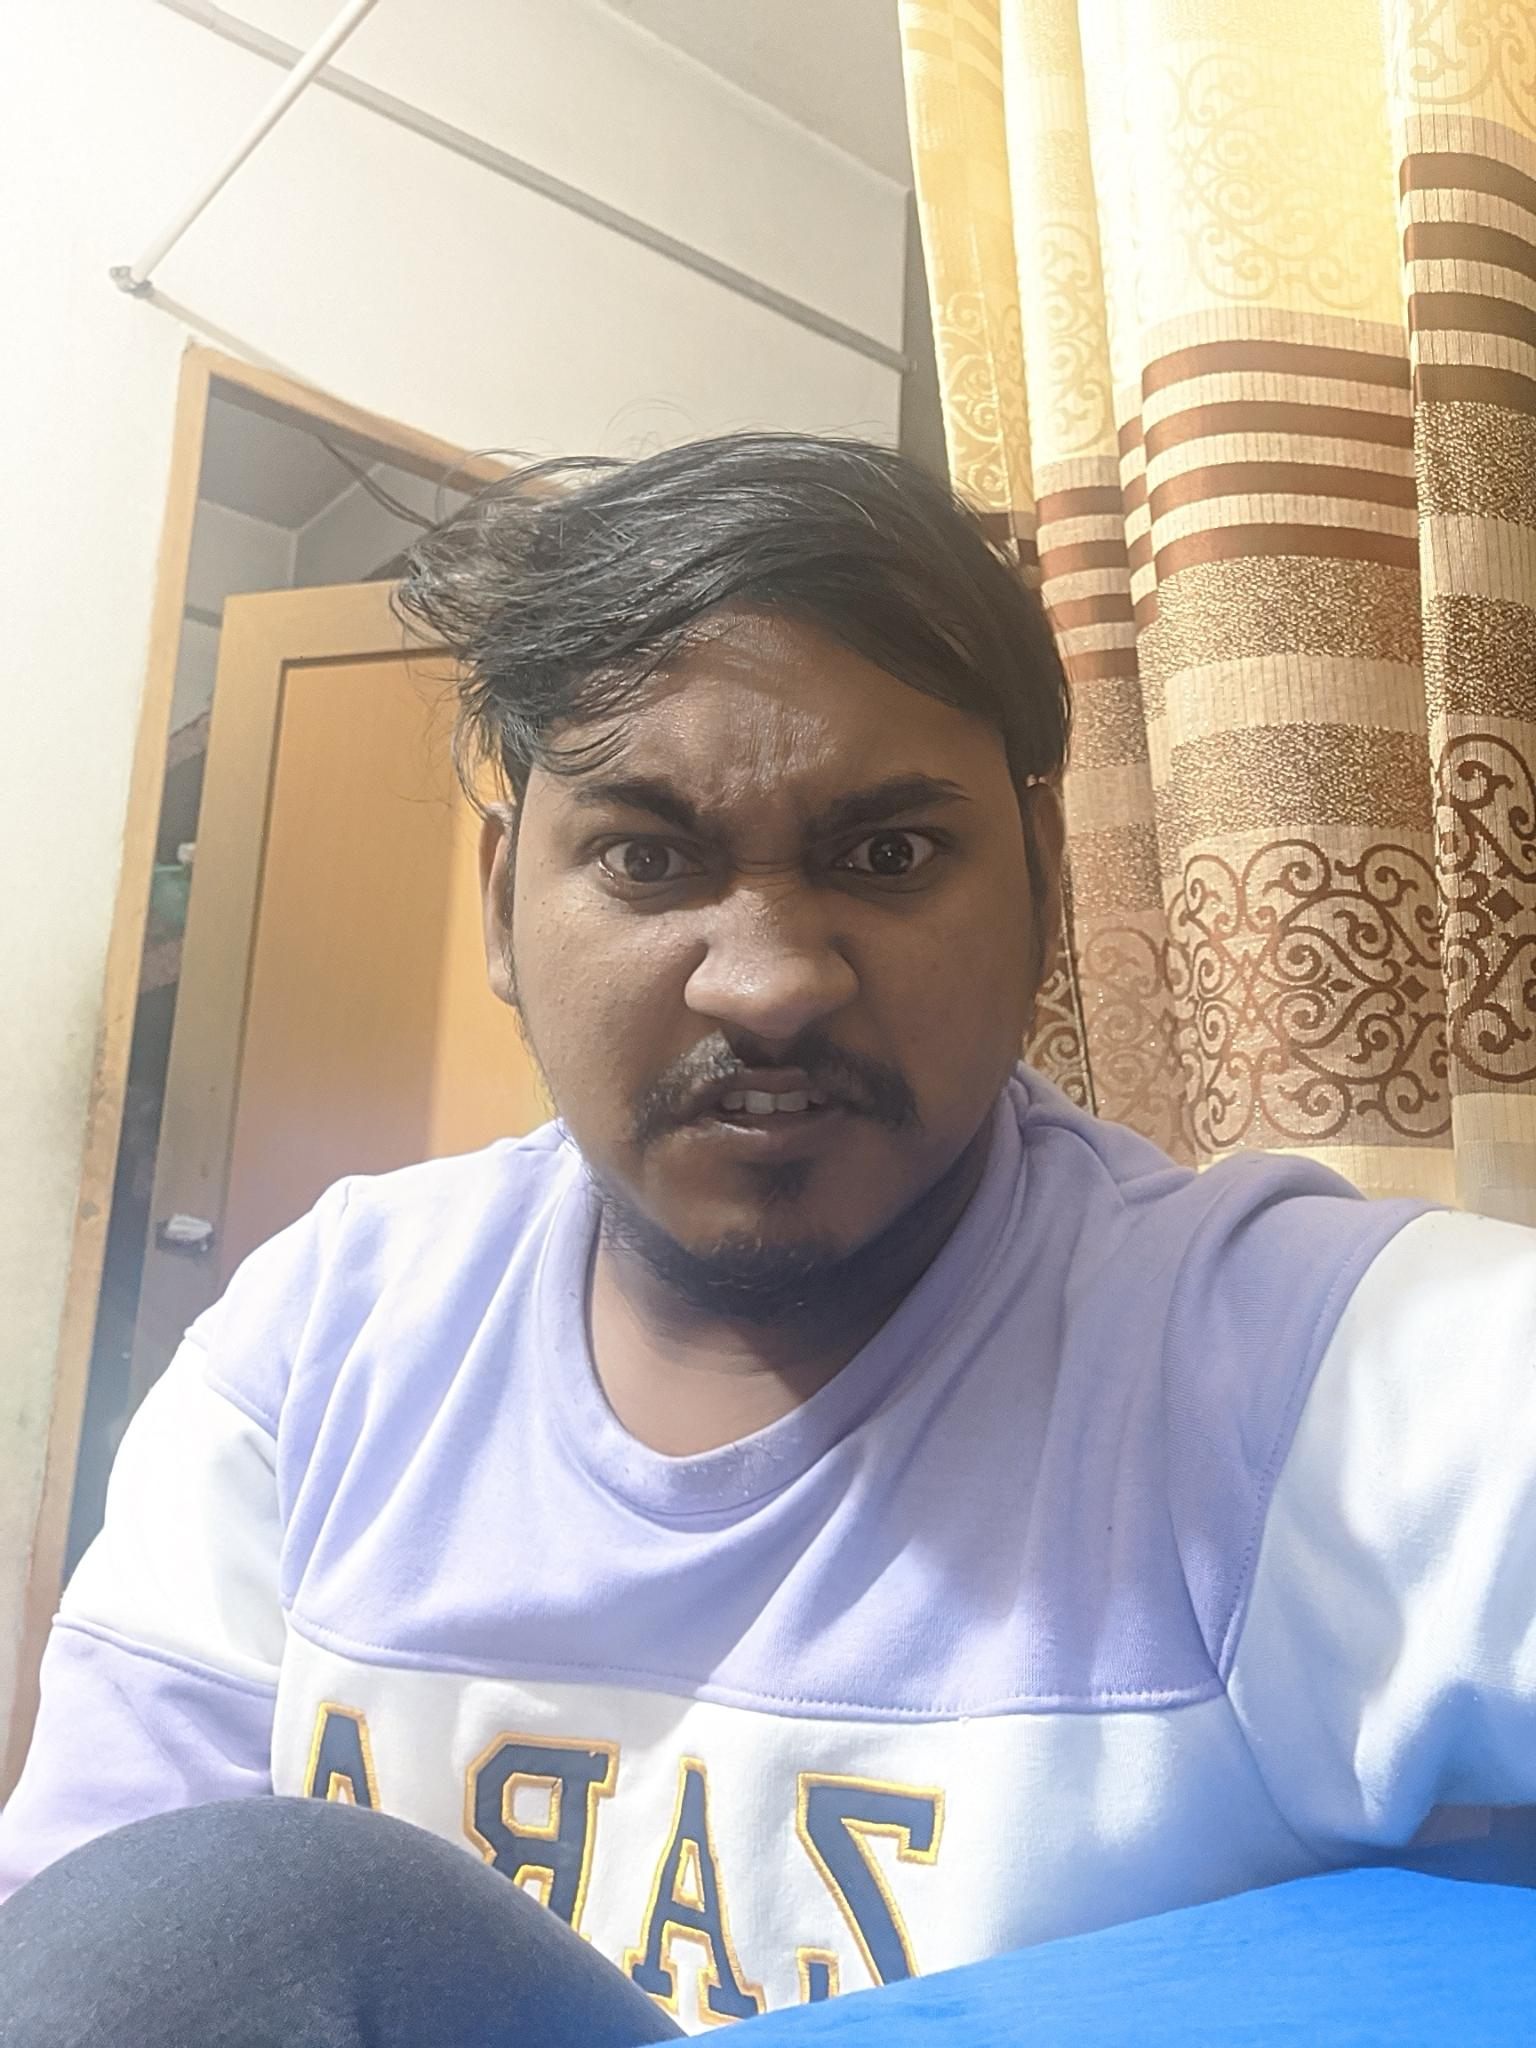Angry: (489, 650, 1058, 1317)
